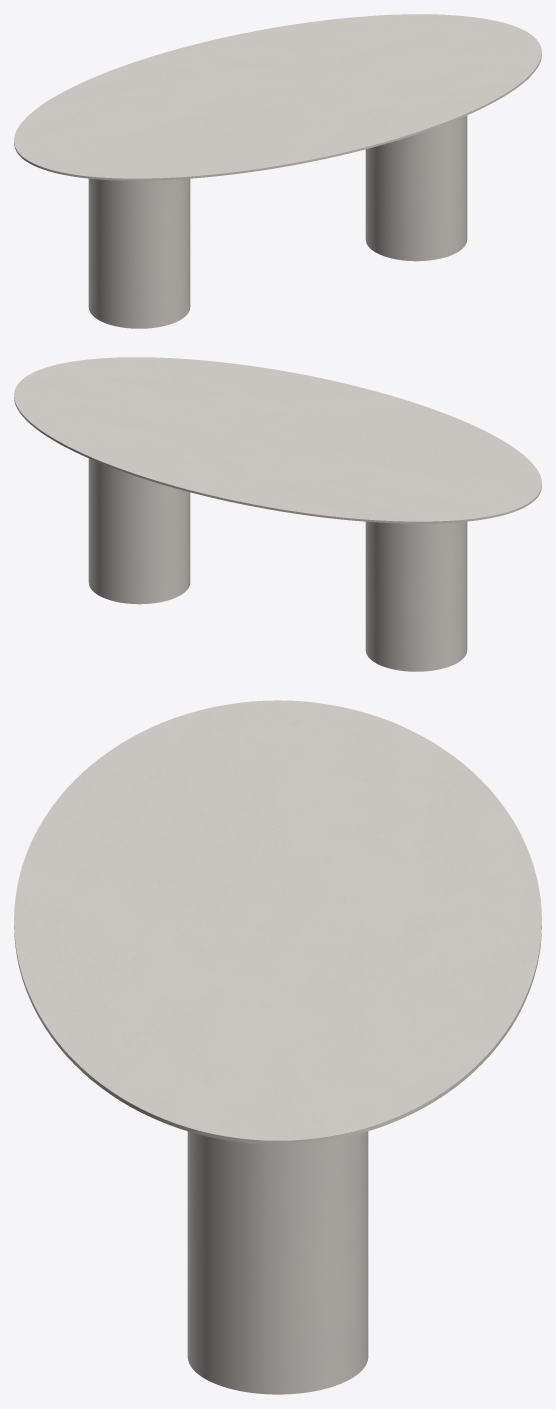
File: pearlwhite_ellips_facet_stream.glb
3 views of the same model, one above another, from view 1: azimuth 30°, elevation 25°; view 2: azimuth 150°, elevation 25°; view 3: azimuth 270°, elevation 25° (orthographic). The views are drawn at different scales.
Visible parts, largest first — view 1: facet_ellips, stream; view 2: facet_ellips, stream; view 3: facet_ellips, stream.
Part boxes in pixels (<box>): facet_ellips: <box>14,14,541,180</box>; stream: <box>88,115,467,328</box>; facet_ellips: <box>14,357,541,523</box>; stream: <box>88,458,467,671</box>; facet_ellips: <box>14,700,541,1144</box>; stream: <box>187,1131,368,1394</box>.
Size of the model in its own units: 7.5 by 2.51 by 3.8.
Materials: 1 (1 with a texture image).
